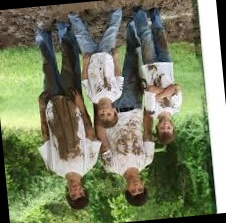earth: (55, 101, 80, 159), (118, 125, 144, 157), (101, 72, 112, 92), (162, 99, 172, 109), (158, 73, 162, 87), (148, 66, 158, 71)
